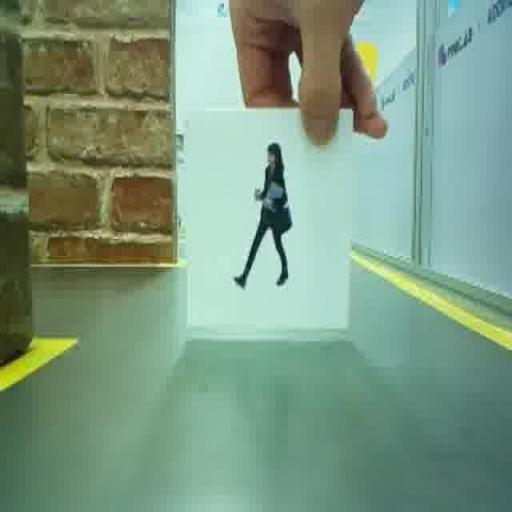human: (234, 143, 292, 287), (278, 159, 279, 161)
